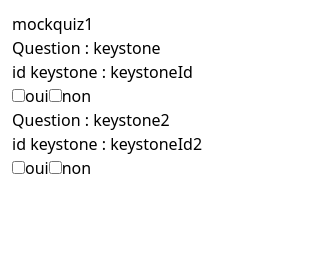
QCMDisplay integration test › Component should display root false question on click
Click the checkbox with test id "non-checkbox-keystoneId": click(55, 96) [49,89,62,102]
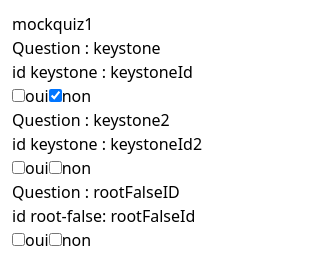
Check: the heading "Question : rootFalseID" is shown, box [12,181,180,203]
